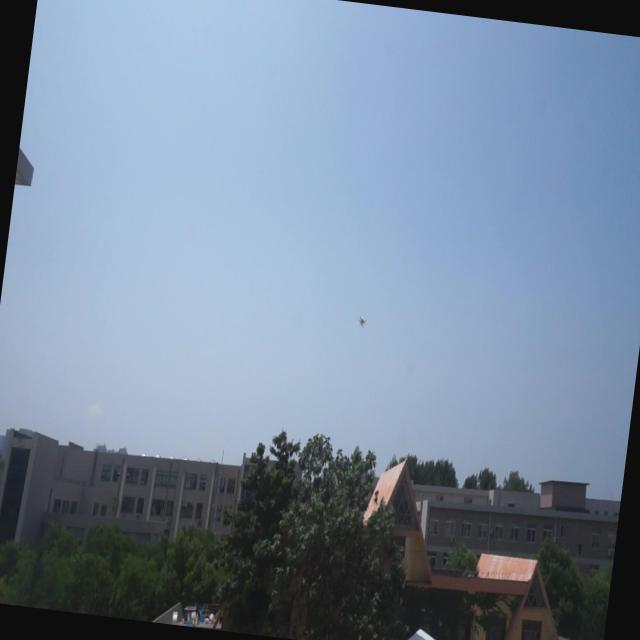drone: (354, 312, 368, 331)
